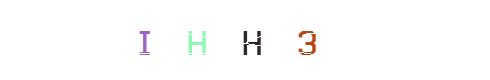3: (269, 0, 349, 80)
H: (205, 0, 285, 80), (213, 0, 293, 80)
I: (149, 0, 229, 80)
